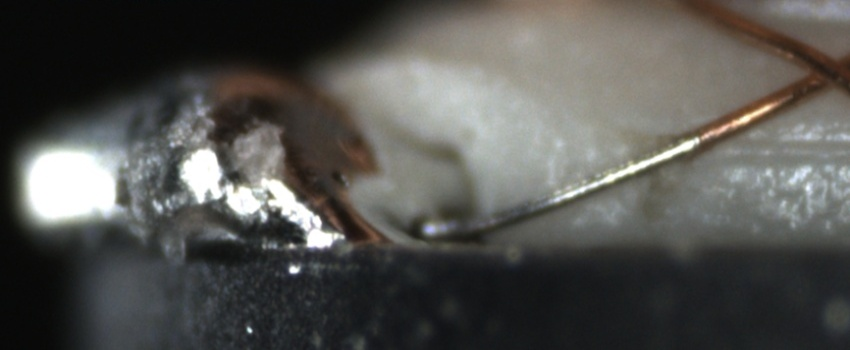CL: (780, 41, 847, 100)
DL: (695, 122, 850, 186)
TS: (419, 132, 704, 238)
